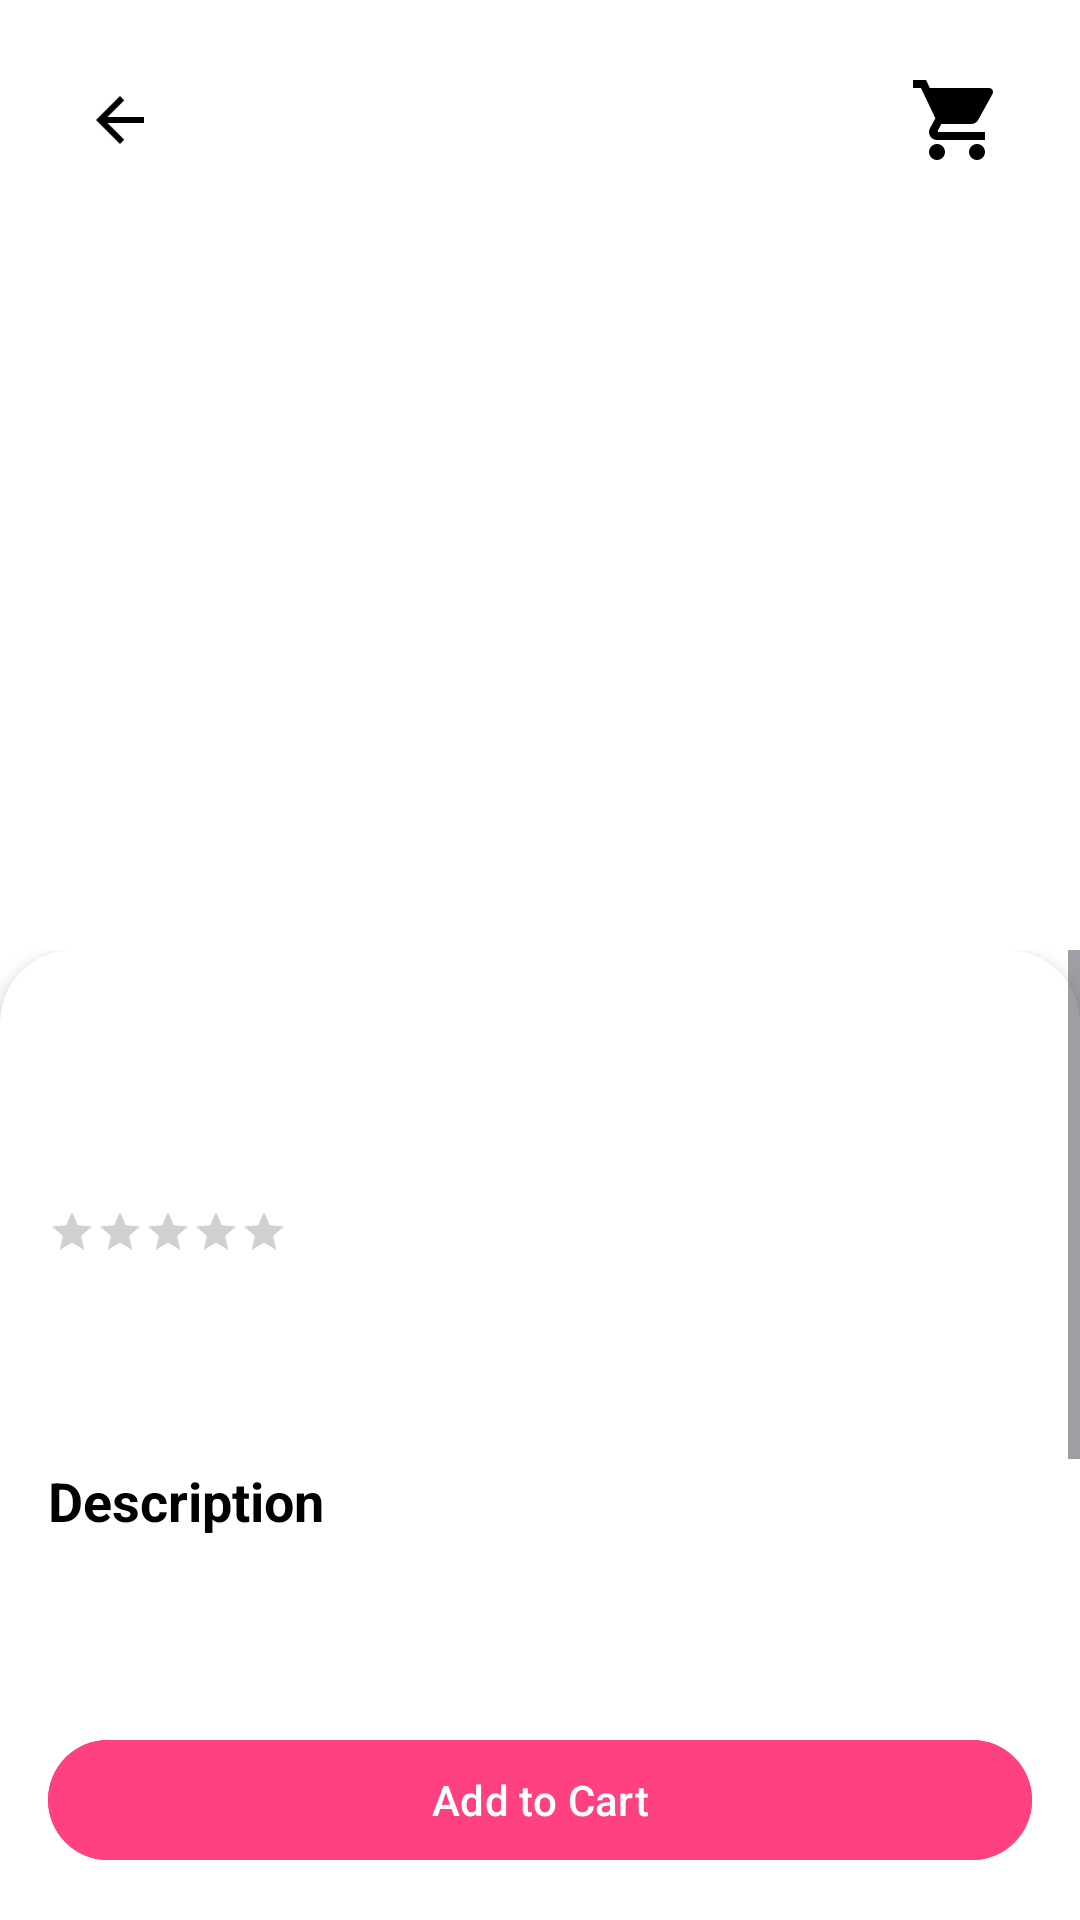

Icon click points for this 1080x1920 phone screenshot, format (x=x, y=y):
Back: (x=120, y=120)
Cart: (x=953, y=120)
